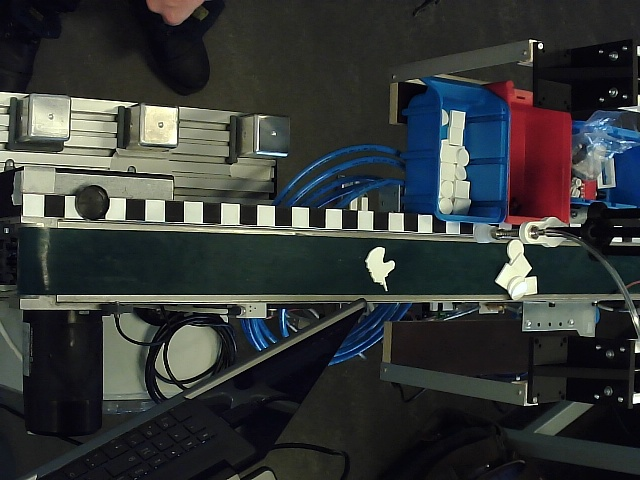unicorn: (364, 246, 396, 292)
